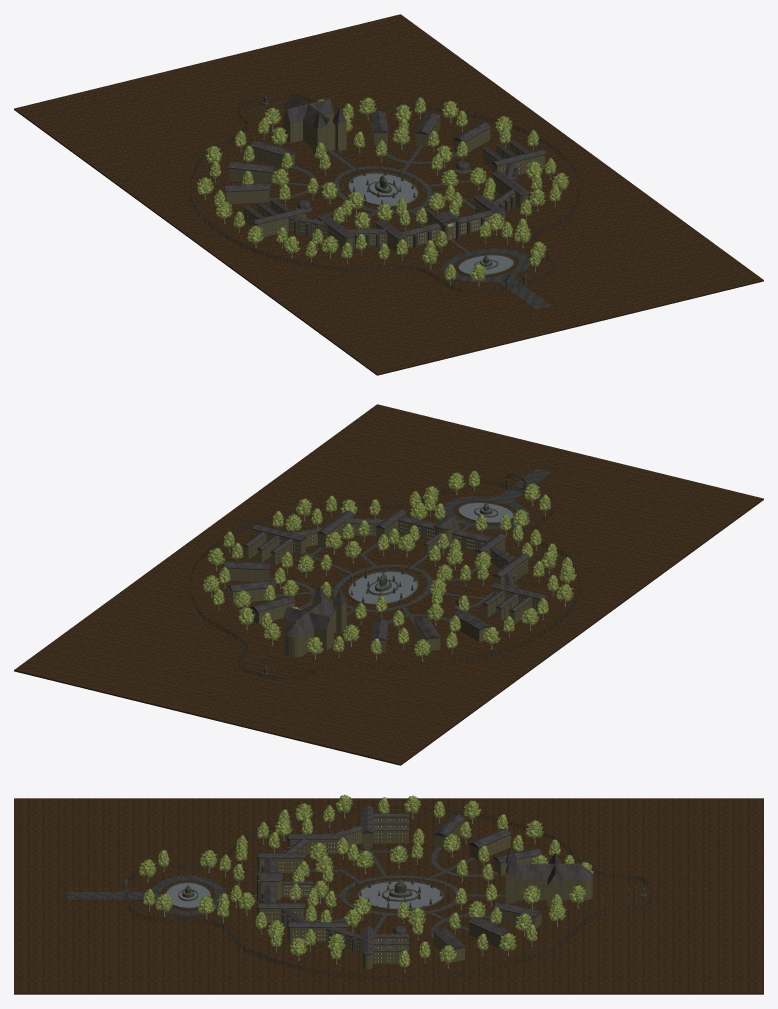
File: asylum-transformed.glb
3 views of the same model, one above another, from view 1: azimuth 30°, elevation 25°; view 2: azimuth 150°, elevation 25°; view 3: azimuth 270°, elevation 25° (orthographic). The views are drawn at different scales.
Parts seen in each view (by area): view 1: asylum-fused; view 2: asylum-fused; view 3: asylum-fused.
Boxes of the visible parts, x1,y1,x2,y2 form: asylum-fused: [14, 14, 763, 375]; asylum-fused: [14, 404, 763, 765]; asylum-fused: [14, 798, 763, 994].
Size of the model in its own units: 324 by 74.59 by 527.
11 materials, 9 textured.
